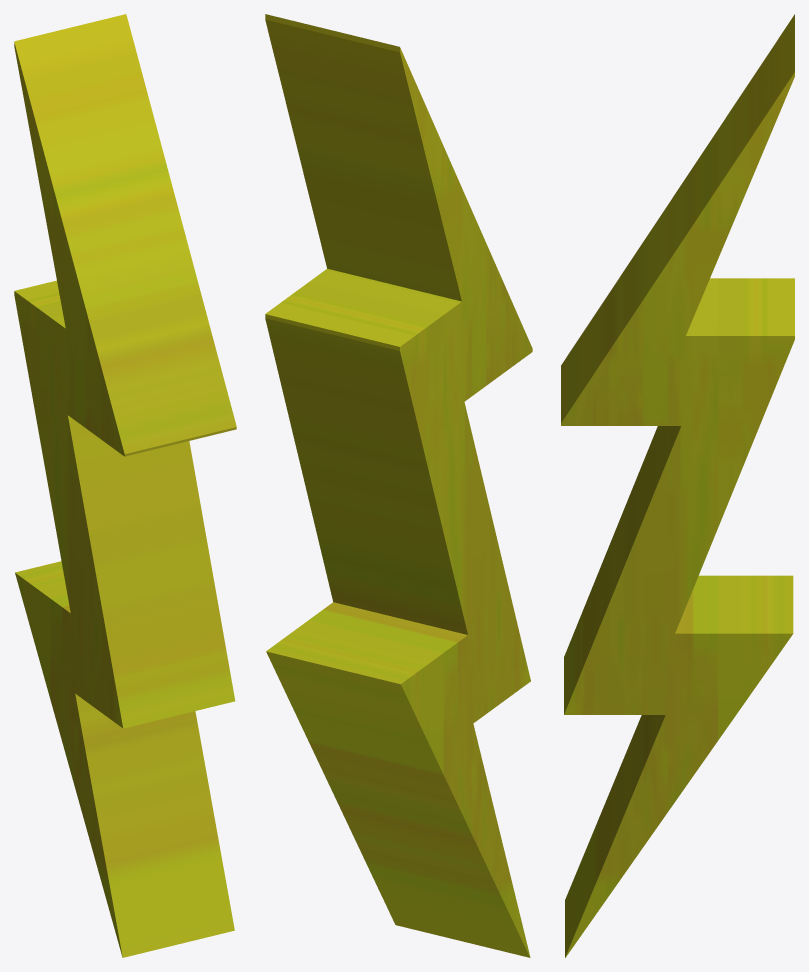
File: SpeedBonus.fbx
3 views of the same model, side by side, from view 1: azimuth 30°, elevation 25°; view 2: azimuth 150°, elevation 25°; view 3: azimuth 270°, elevation 25° (orthographic). The views are drawn at different scales.
Parts seen in each view (by area): view 1: pCube1; view 2: pCube1; view 3: pCube1.
Boxes of the visible parts, x1,y1,x2,y2 form: pCube1: [14, 14, 236, 957]; pCube1: [265, 14, 532, 957]; pCube1: [561, 14, 794, 957].
Bounding box in the file's own units: 16.97 × 121 × 28.95.
1 material, 1 textured.
